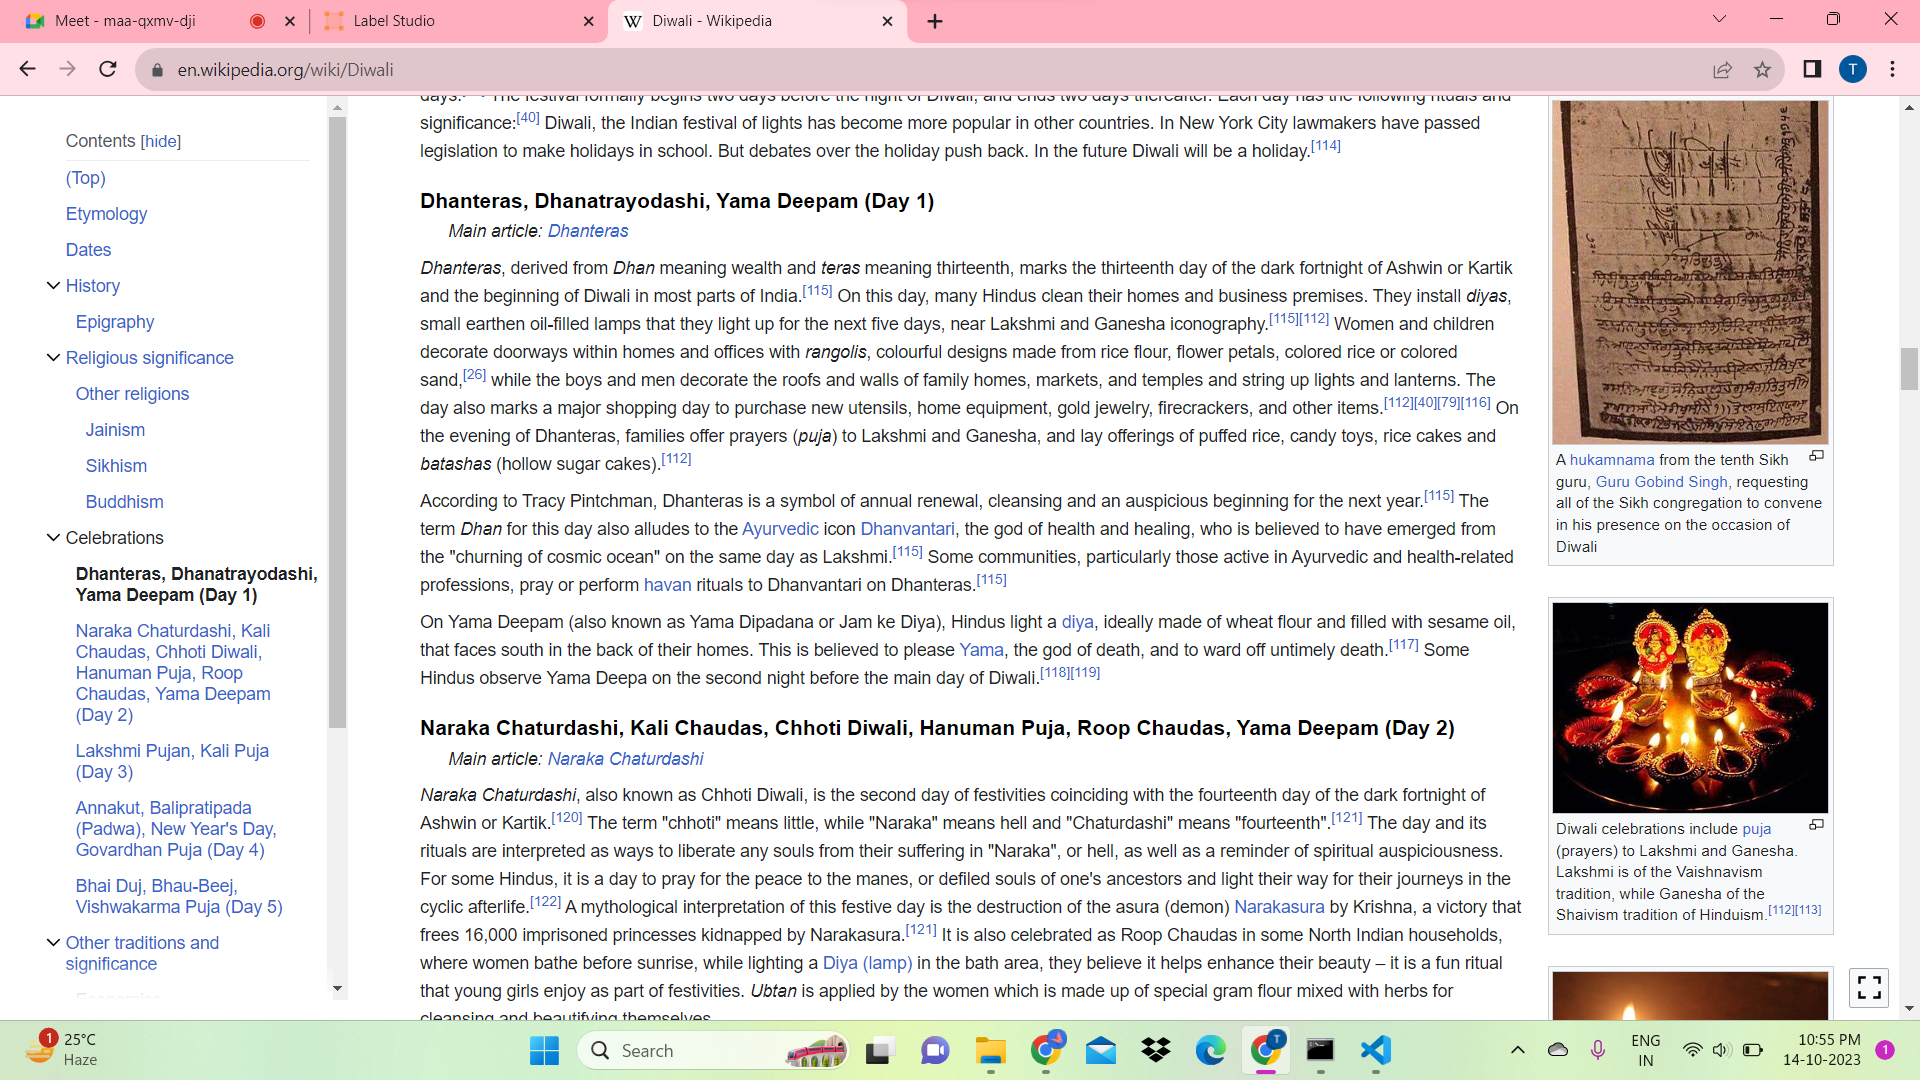Image: (1551, 99, 1832, 444), (1549, 596, 1836, 808), (1551, 967, 1836, 1025)
Paragraph: (414, 773, 1530, 1010), (397, 255, 1532, 477), (411, 483, 1485, 601), (390, 604, 1506, 696), (407, 708, 1478, 746), (58, 347, 287, 520), (61, 737, 322, 865), (24, 876, 316, 977), (62, 615, 291, 729), (58, 549, 323, 608), (404, 186, 964, 211), (58, 240, 169, 339), (58, 166, 164, 233), (58, 128, 200, 157)
